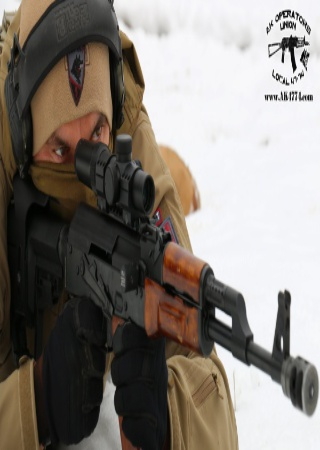rifle: (11, 129, 320, 434)
